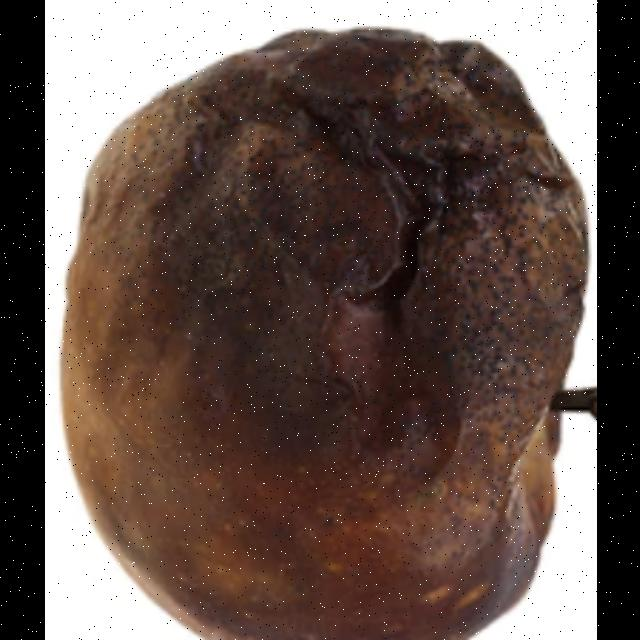Apel Tidak Segar: (57, 34, 596, 640)
